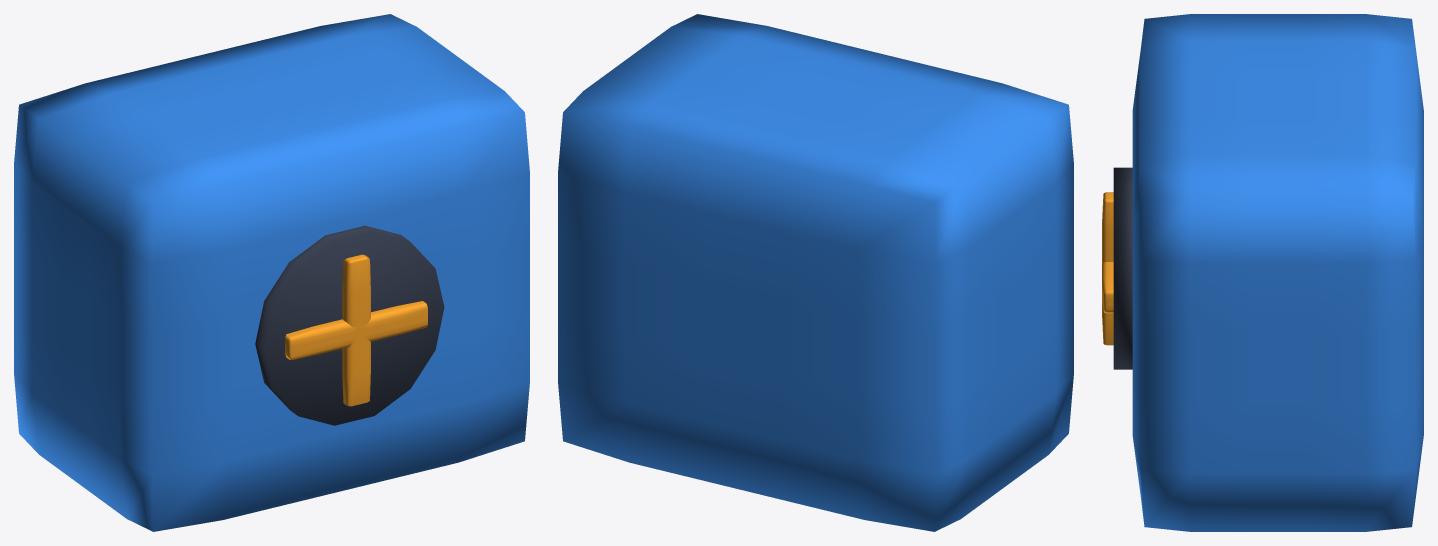
Rendered from torso_vault.obj.
3 views of the same model, side by side, from view 1: azimuth 30°, elevation 25°; view 2: azimuth 150°, elevation 25°; view 3: azimuth 270°, elevation 25° (orthographic).
Bounding box in the file's own units: 0.96 × 0.82 × 0.685.
